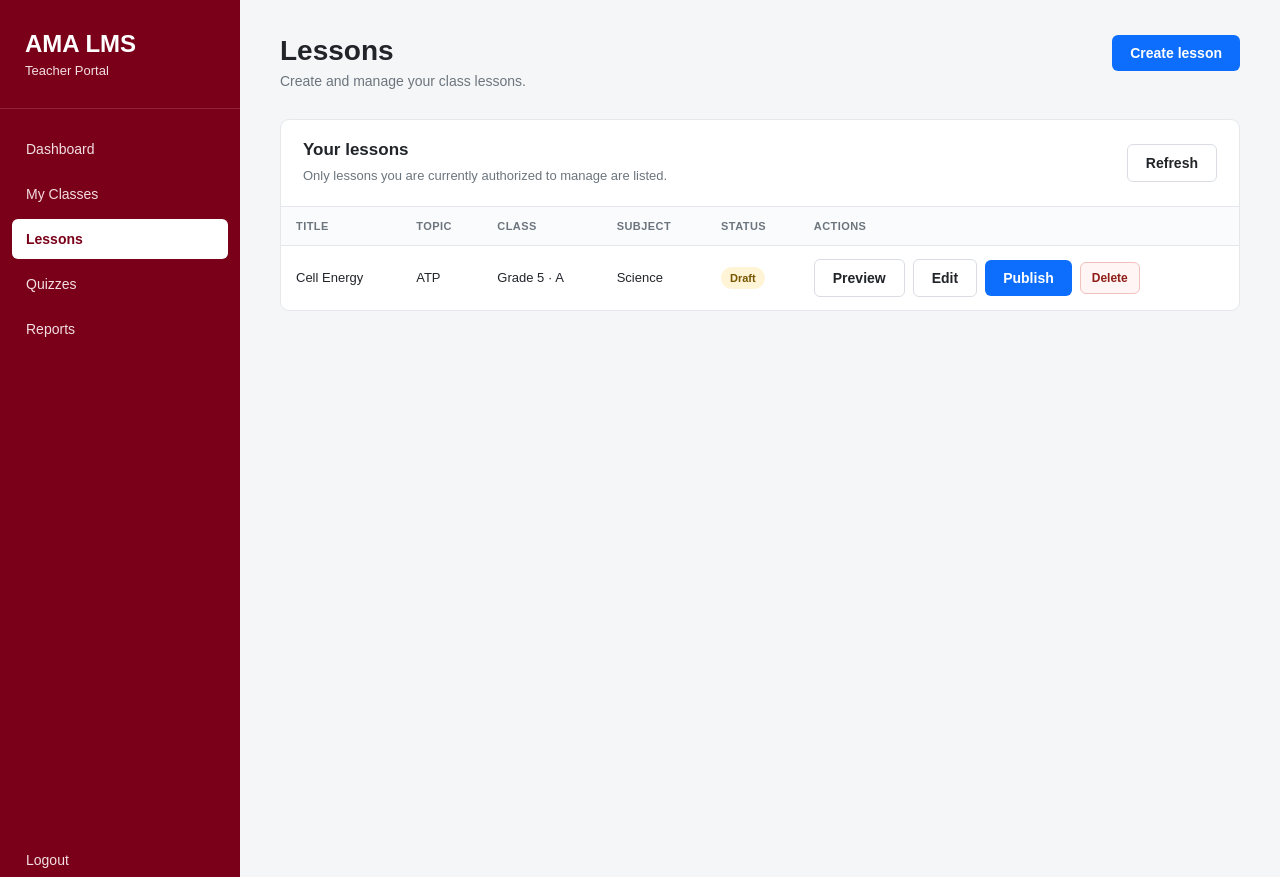
Test: teacher lesson management › asks before discarding unsaved edits
expect the heading "Your lessons" is shown: met, box 303,140 -> 408,159
Click the button "Edit" at (945, 278), box 913,258 -> 977,296
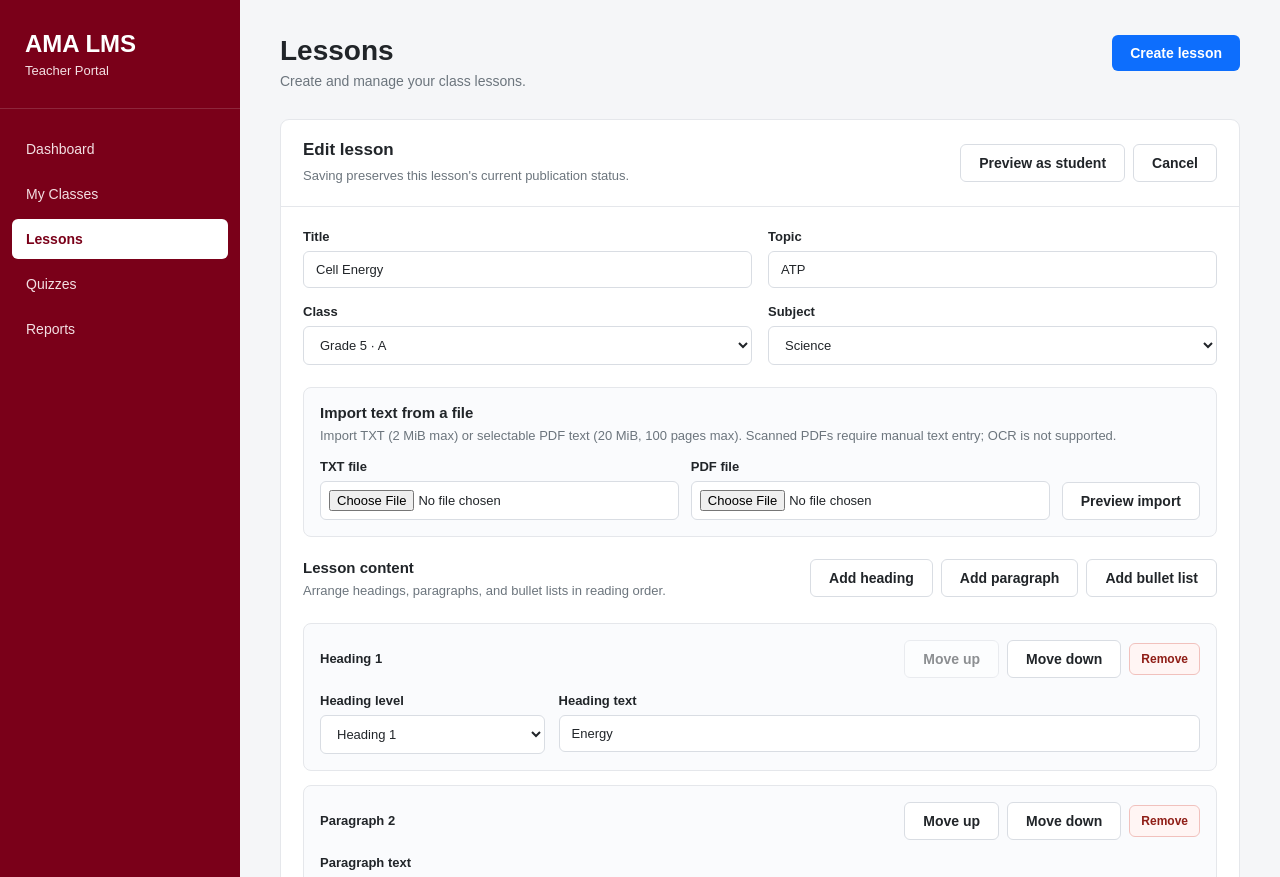
Type " changed" into the field named "Lesson title" at (528, 269), box 303,250 -> 752,288
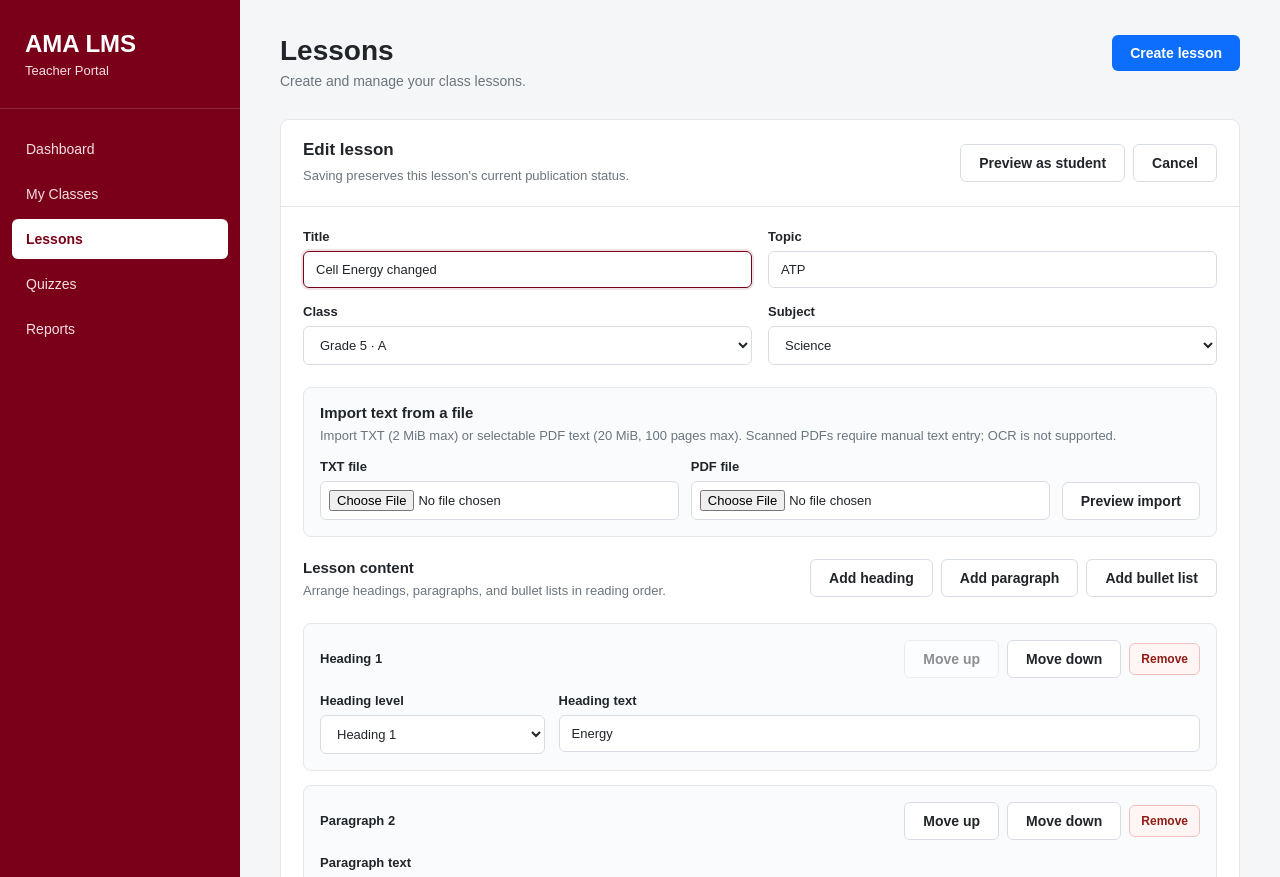
Click the button "Cancel" at (1175, 163), box 1133,144 -> 1217,182
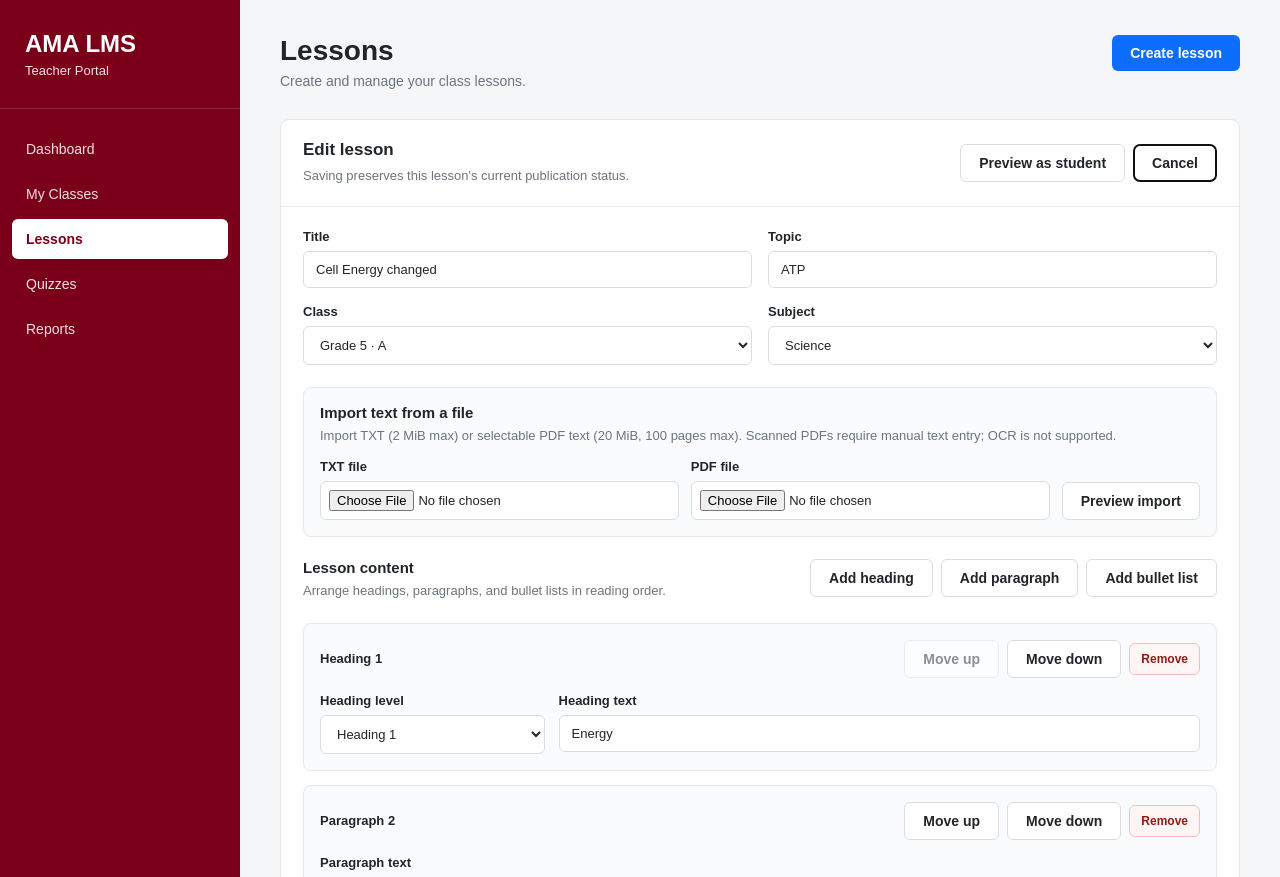
expect the heading "Edit lesson" is shown: met, box 303,140 -> 394,159
Click the button "Cancel" at (1175, 163), box 1133,144 -> 1217,182
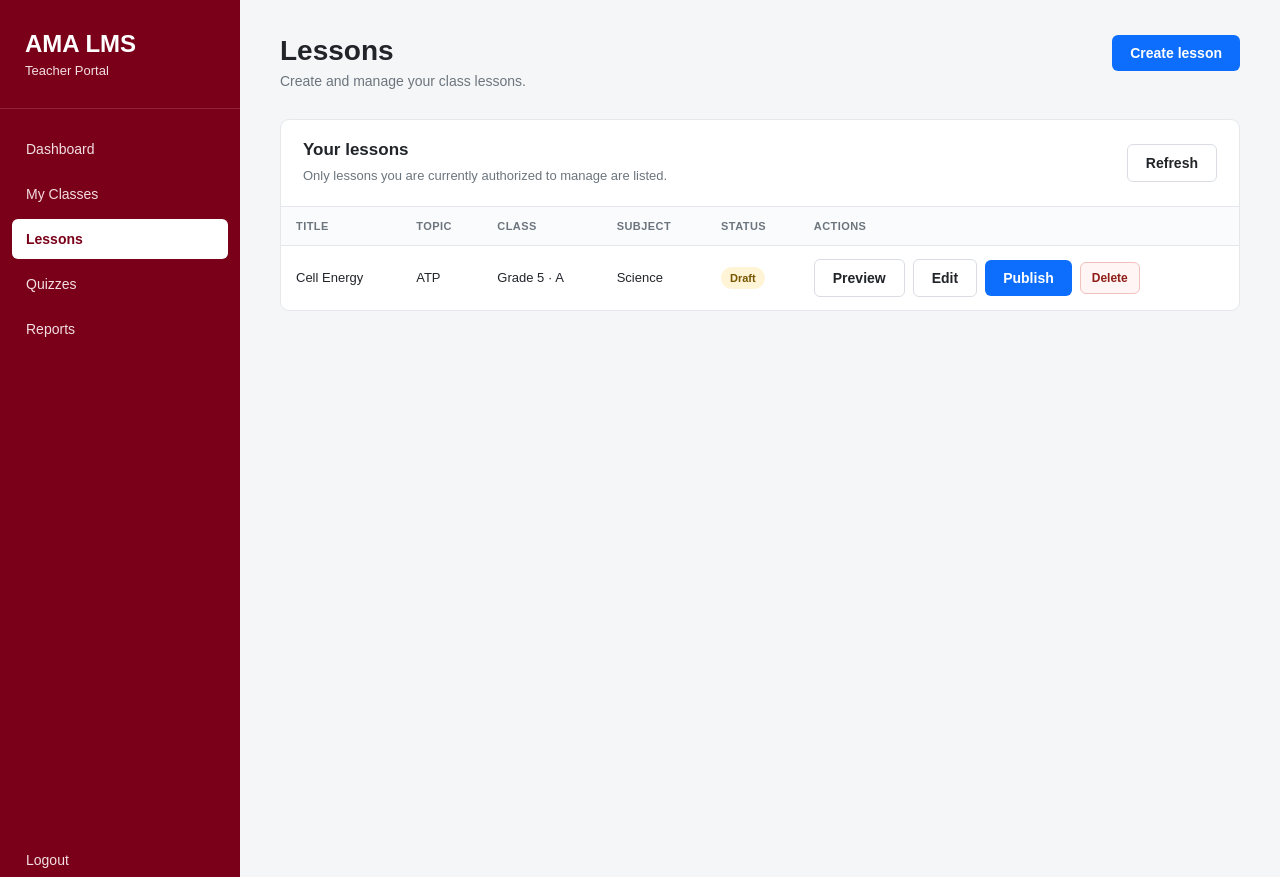
expect the heading "Edit lesson" is gone: met
